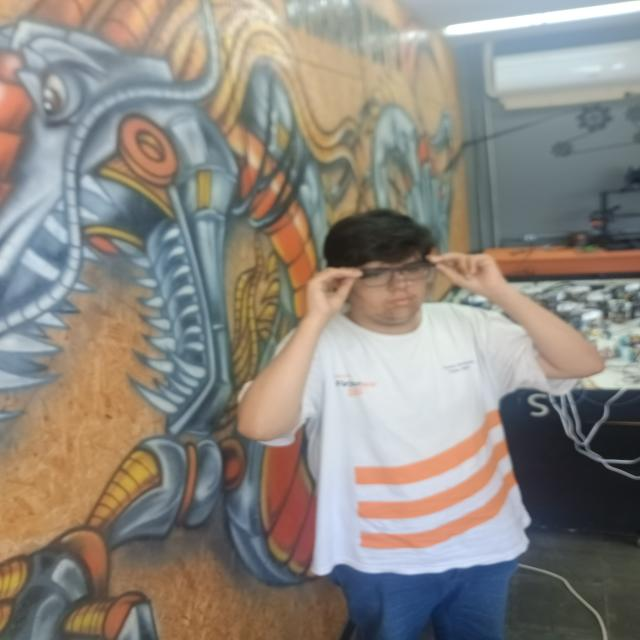oculos-epi: (359, 264, 437, 288)
